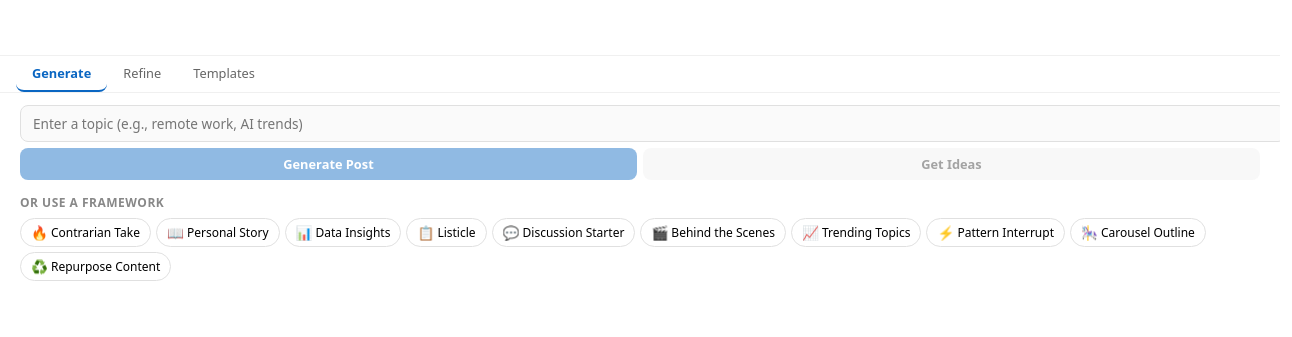
Test: AiPanel › dismisses error when dismiss button is clicked
Click the button "Refine".
click(142, 74)  # box [107,56,177,92]
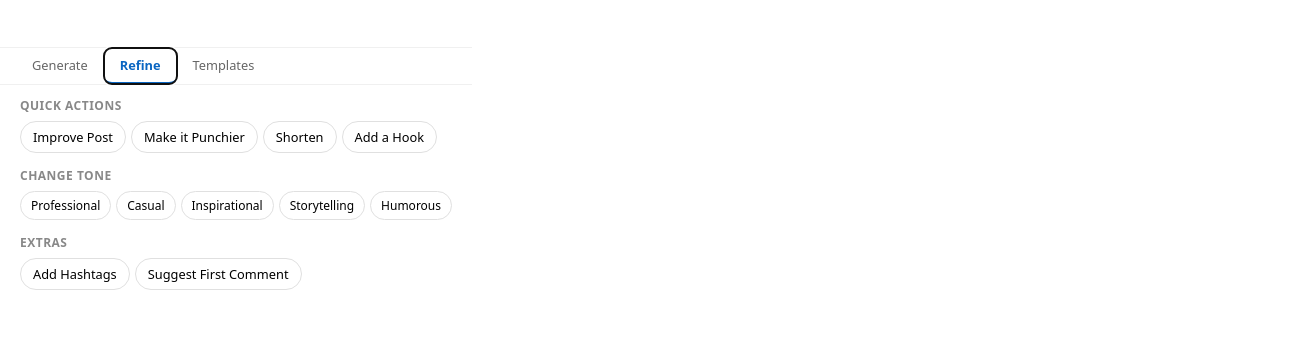
Click the button "Improve Post".
click(73, 136)  # box [20,120,126,152]
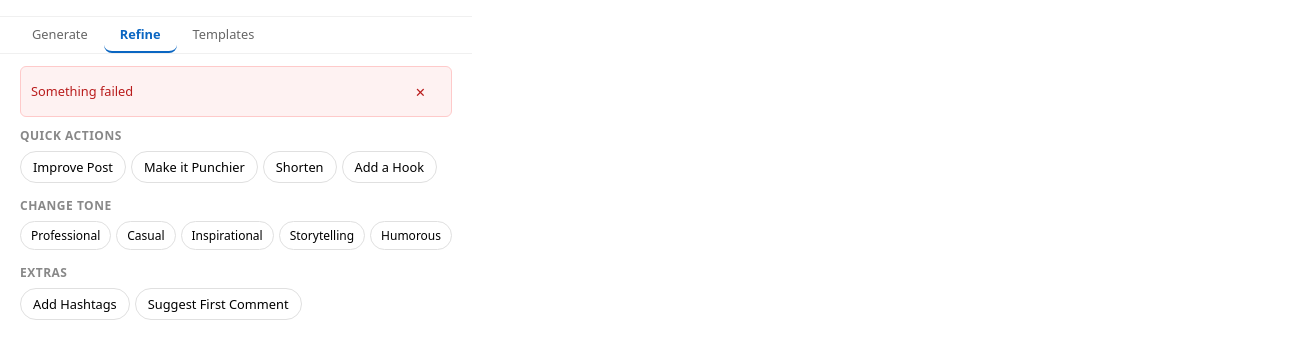
Check: the text "Something failed" is shown, box [31,82,133,100]
Click the button "✕".
click(420, 91)  # box [400,75,441,108]
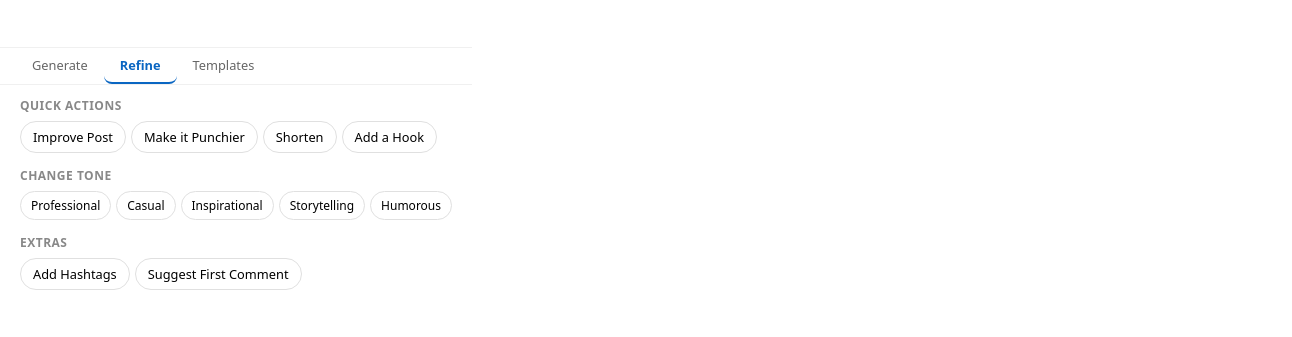
Check: the text "Something failed" is gone
